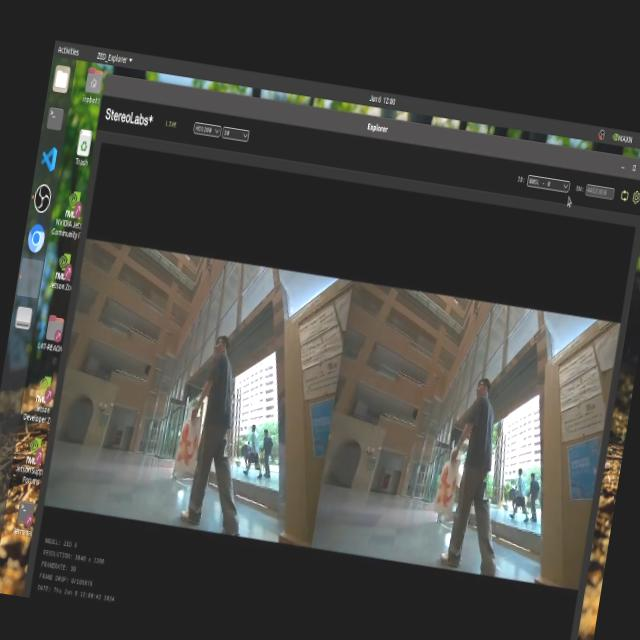red: (172, 418, 202, 468), (430, 455, 457, 506)
